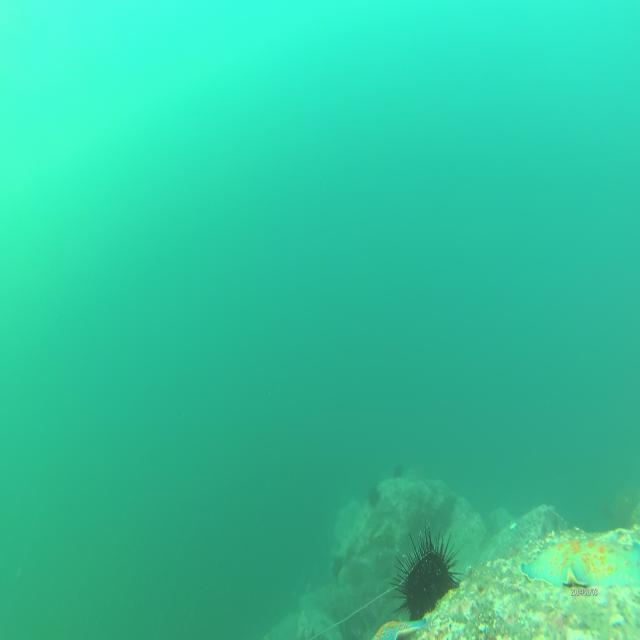echinus: (386, 526, 458, 620), (329, 553, 345, 580), (368, 484, 382, 508)
starfish: (523, 522, 640, 598), (369, 613, 422, 640)
